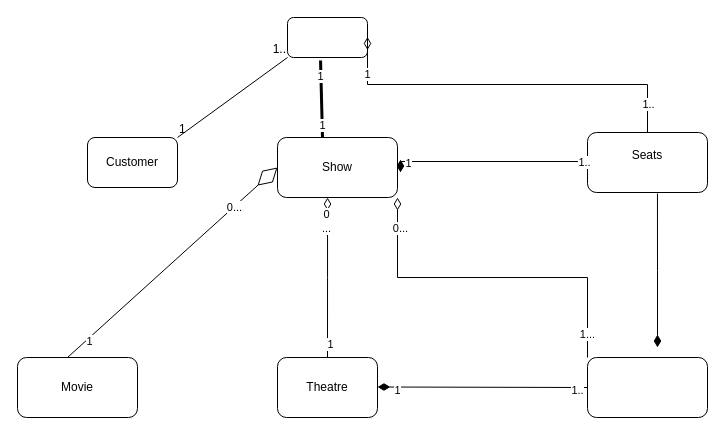
Some shapes in this 725 by 435 pixel diagram are drawn without their labels. Each missing label, with the centre of its shape:
Screen: the point at 647,387
Ticket: the point at 327,37
